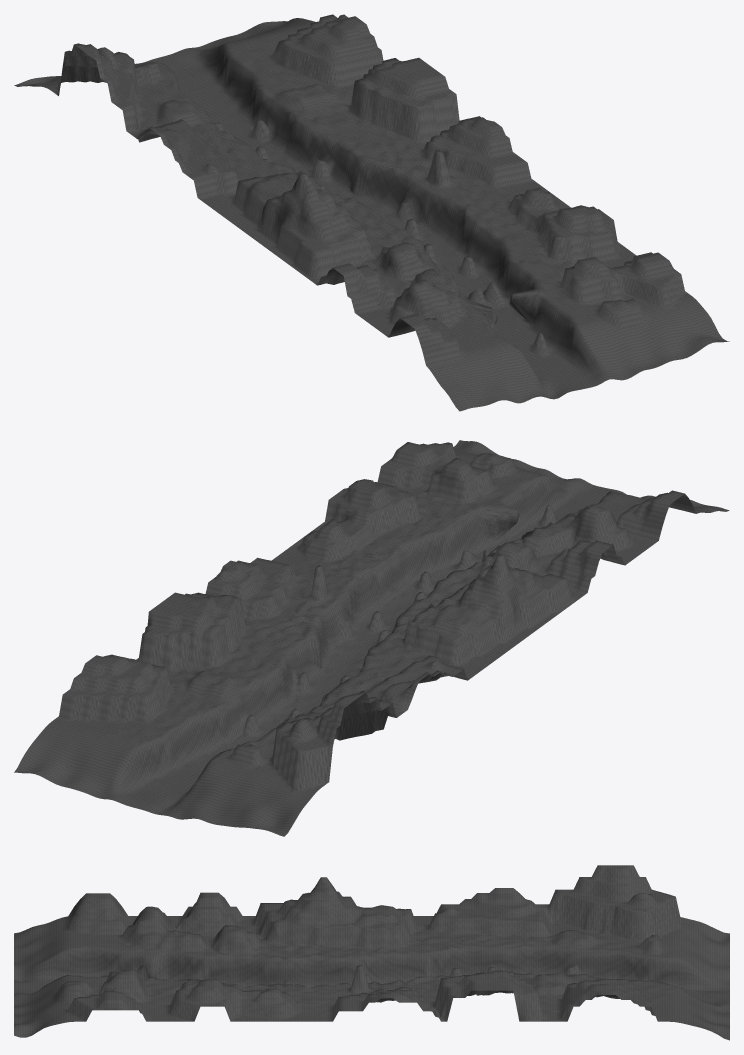
File: Terrain_03_CANYON.obj
The picture shows the model from 3 angles, top to bottom: view 1: azimuth 30°, elevation 25°; view 2: azimuth 150°, elevation 25°; view 3: azimuth 270°, elevation 25°; orthographic projection. The views are drawn at different scales.
Visible parts, largest first — view 1: Terrain_03_CANYON; view 2: Terrain_03_CANYON; view 3: Terrain_03_CANYON.
Boxes of the visible parts, <box> form: Terrain_03_CANYON: <box>14,14,729,411</box>; Terrain_03_CANYON: <box>14,440,729,836</box>; Terrain_03_CANYON: <box>14,865,729,1040</box>.
Bounding box in the file's own units: 1052 × 369 × 3000.
Materials: 1 (1 with a texture image).
